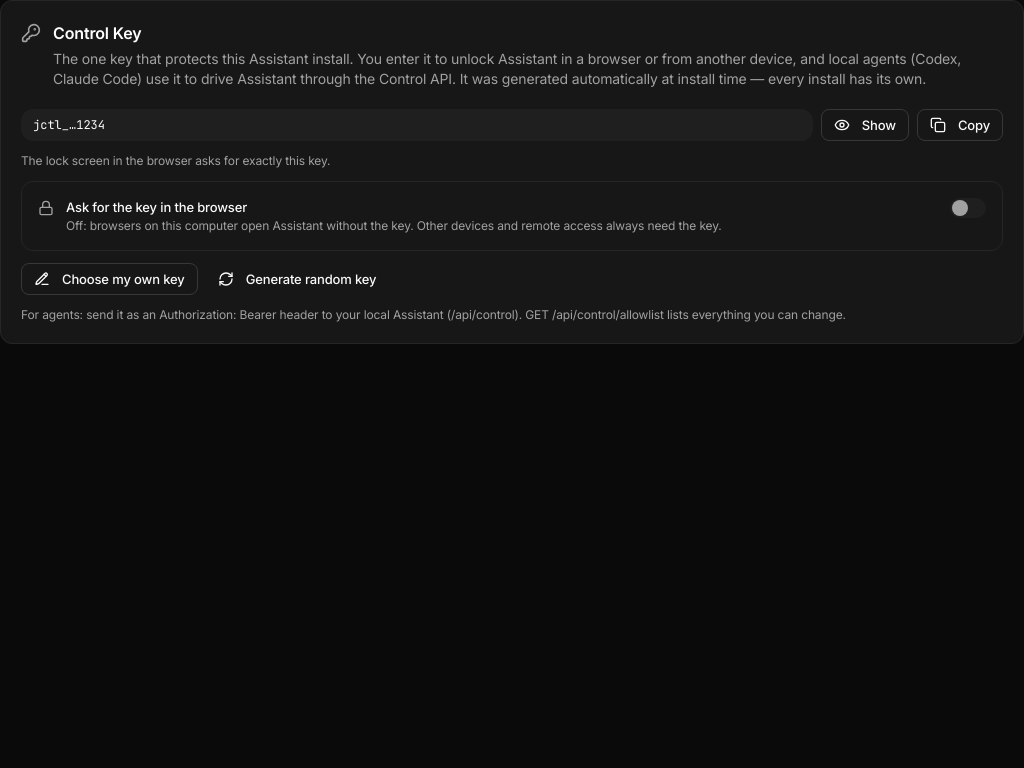
Test case: JarvisApiGroup › rejects a too-short custom key locally without any request
Check: the text "jctl_…1234" is shown, box 21,109 -> 813,141
Click the button "Choose my own key" at [109, 279], box 21,263 -> 198,295
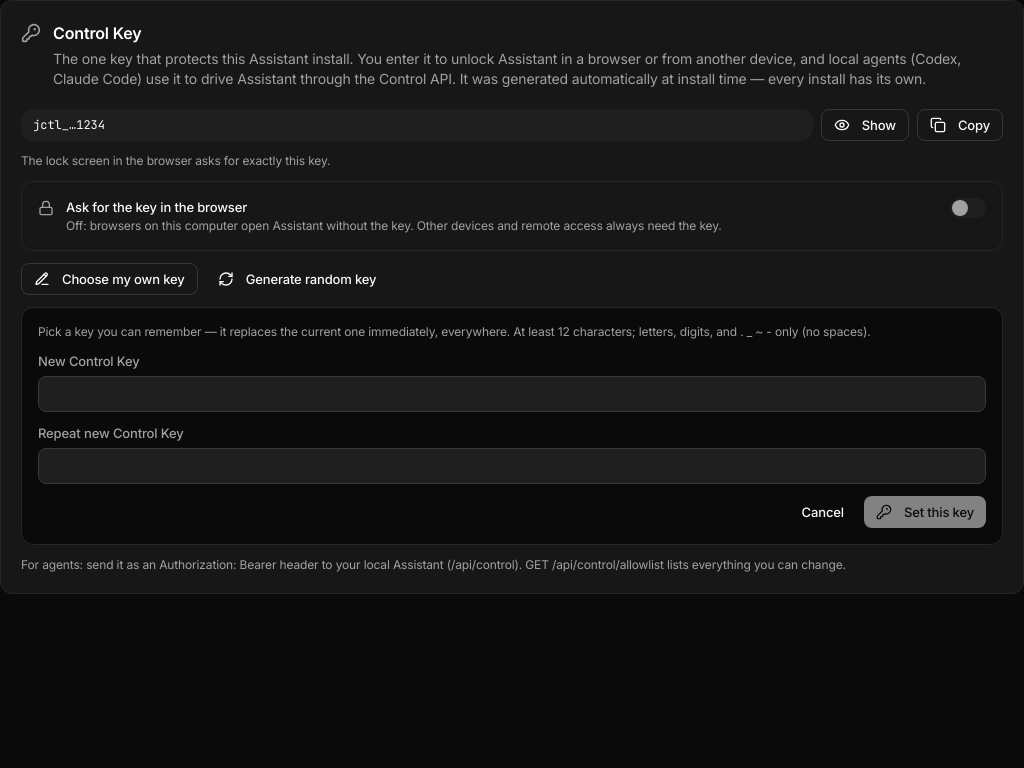
Type "short" into the password field labelled "New Control Key" at [512, 394], box 38,376 -> 986,412
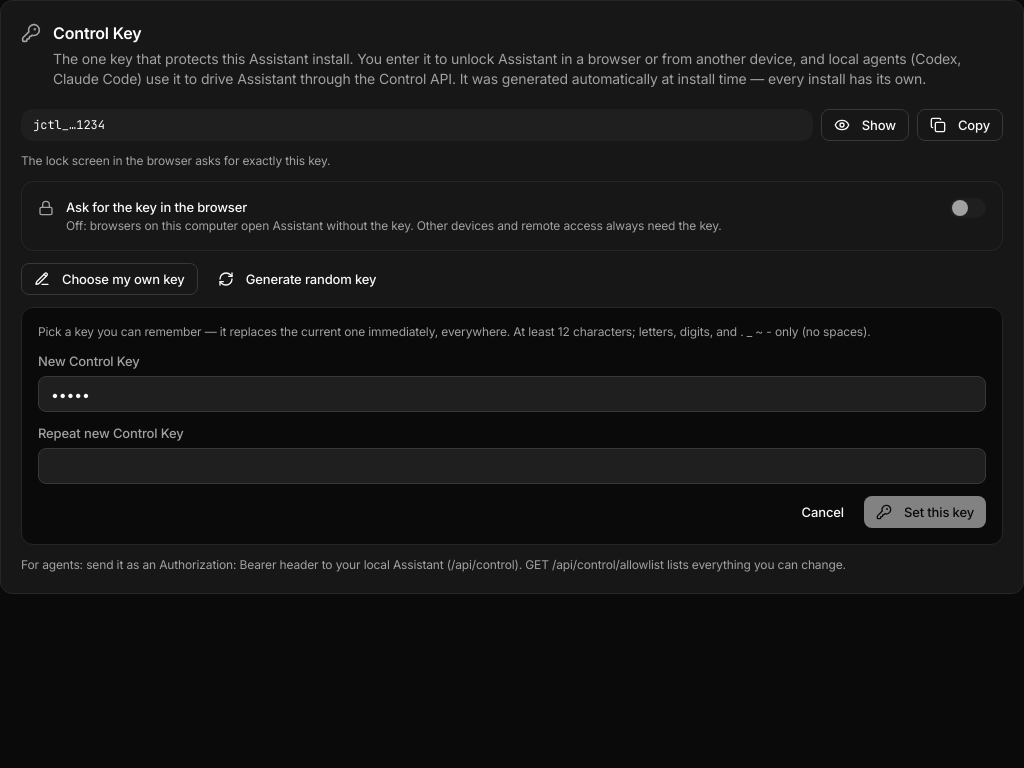
Type "short" into the password field labelled "Repeat new Control Key" at [512, 466], box 38,448 -> 986,484
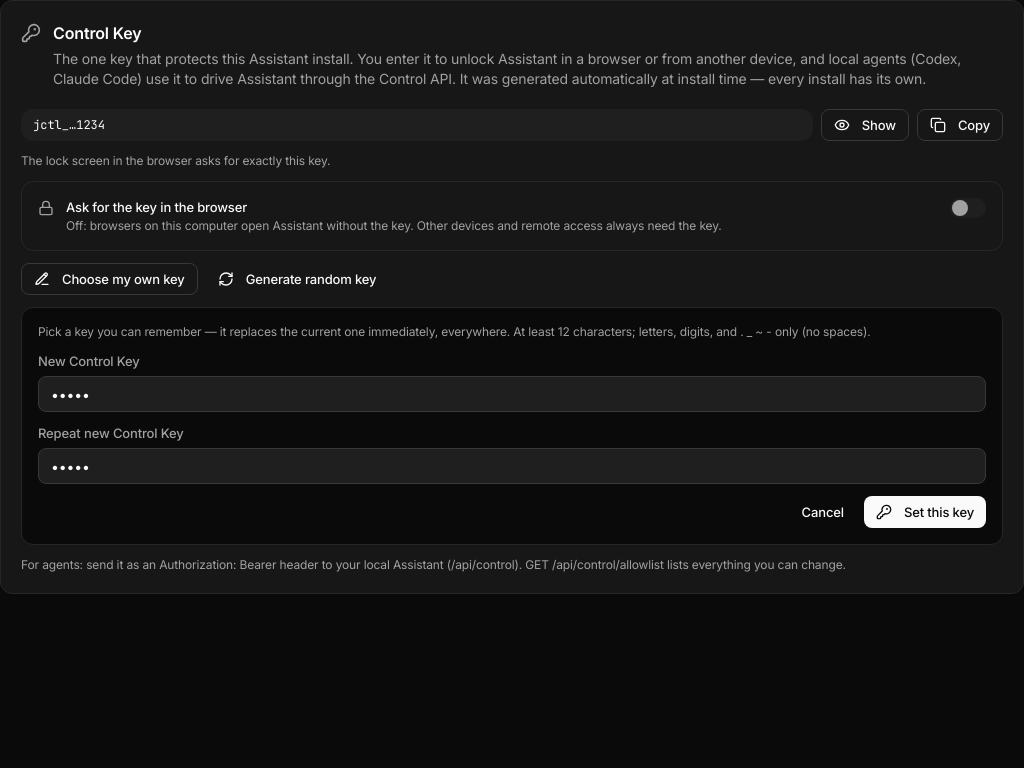
Click the button "Set this key" at [925, 512], box 864,496 -> 986,528
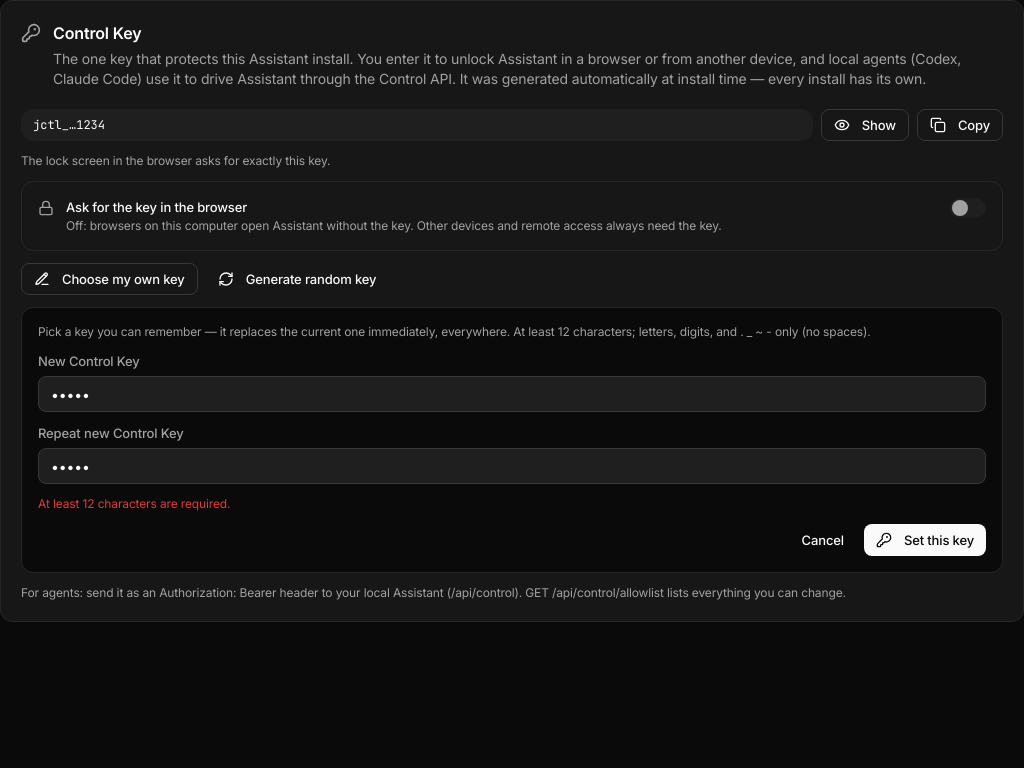
Check: the text "At least 12 characters are required." is shown, box 38,496 -> 230,511
